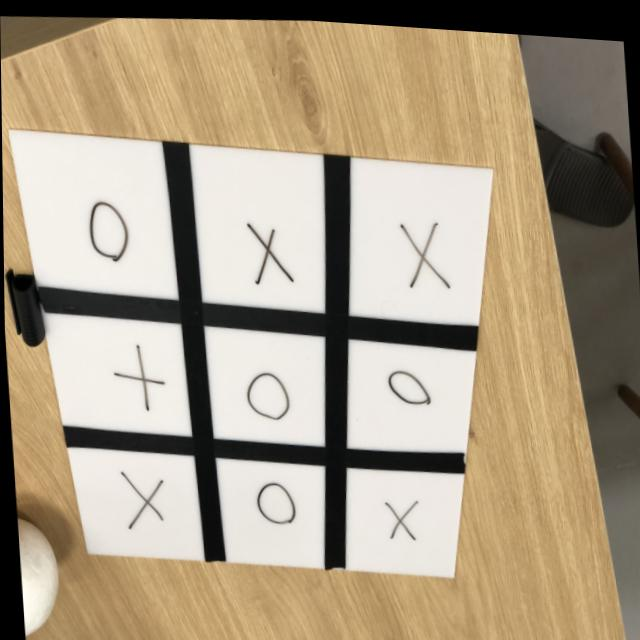o: (82, 189, 132, 267), (376, 350, 433, 415), (242, 364, 292, 423), (250, 472, 297, 529)
table: (0, 133, 496, 577)
x: (107, 335, 169, 414), (394, 211, 451, 288), (242, 213, 294, 289), (117, 465, 167, 532), (381, 489, 422, 546)
